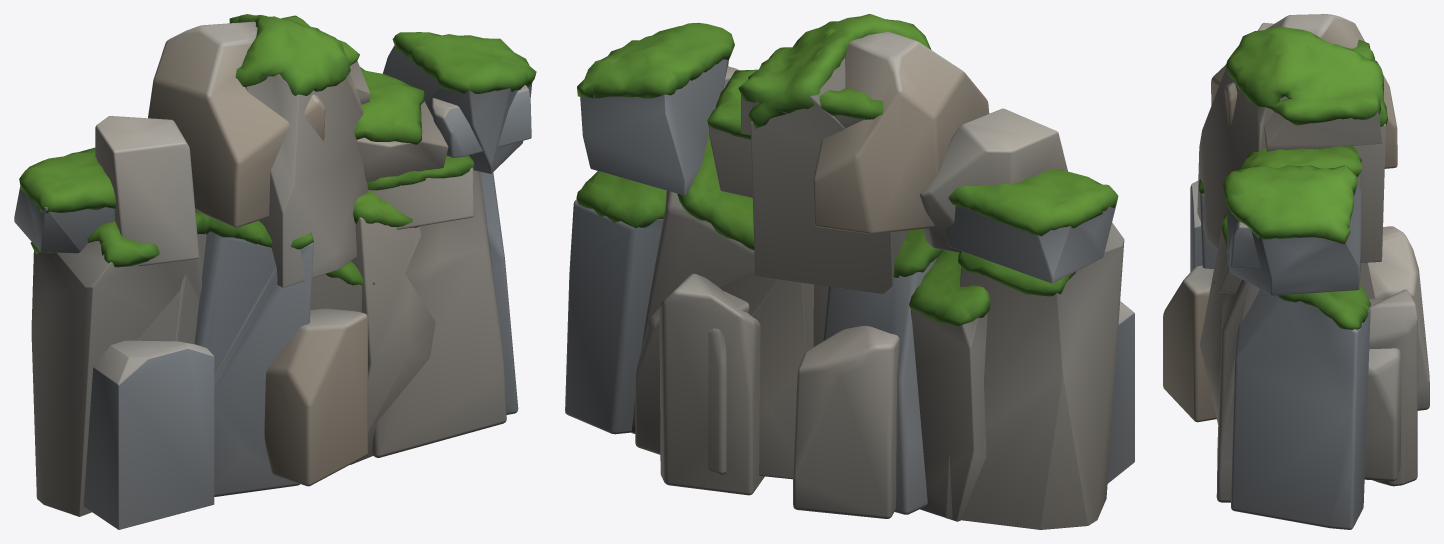
File: glade_bluff_ridge.glb
3 renders of one model, left to right at view 1: azimuth 30°, elevation 25°; view 2: azimuth 150°, elevation 25°; view 3: azimuth 270°, elevation 25°, orthographic. The views are drawn at different scales.
Parts seen in each view (by area): view 1: glade_bluff_ridge, moss; view 2: glade_bluff_ridge, moss; view 3: glade_bluff_ridge, moss.
Part boxes in pixels (bbox=[...]): glade_bluff_ridge: bbox=[14, 21, 532, 529]; moss: bbox=[19, 14, 536, 285]; glade_bluff_ridge: bbox=[565, 32, 1134, 529]; moss: bbox=[576, 14, 1118, 326]; glade_bluff_ridge: bbox=[1163, 14, 1429, 529]; moss: bbox=[1199, 26, 1387, 329].
Size of the model in its own units: 31.73 by 26.38 by 16.13.
